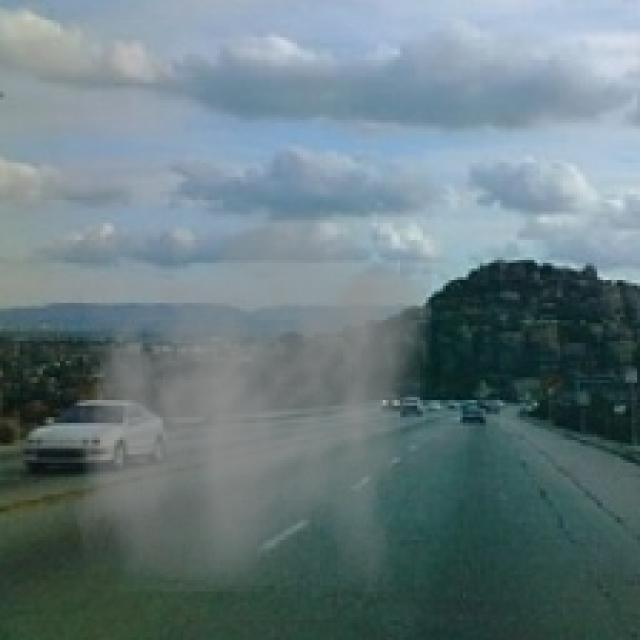Smoke: (74, 188, 432, 592)
